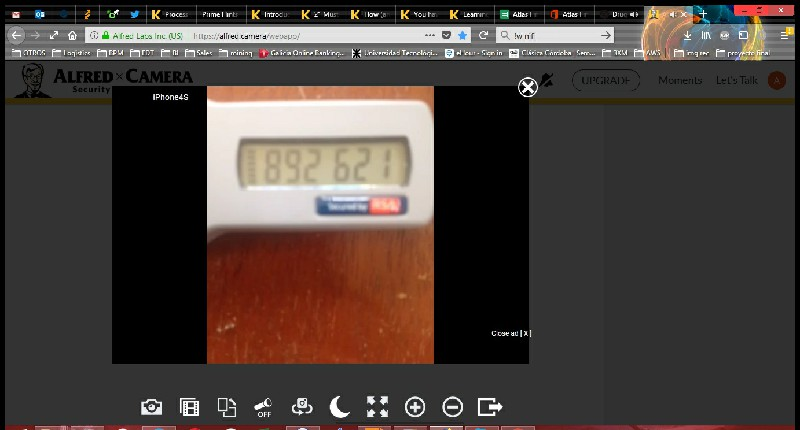display: (242, 142, 408, 187)
